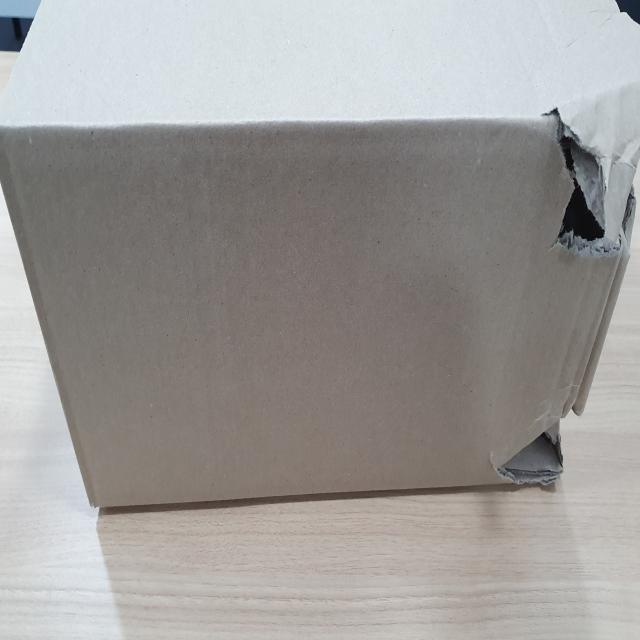hole: (540, 103, 638, 260), (493, 399, 588, 495)
